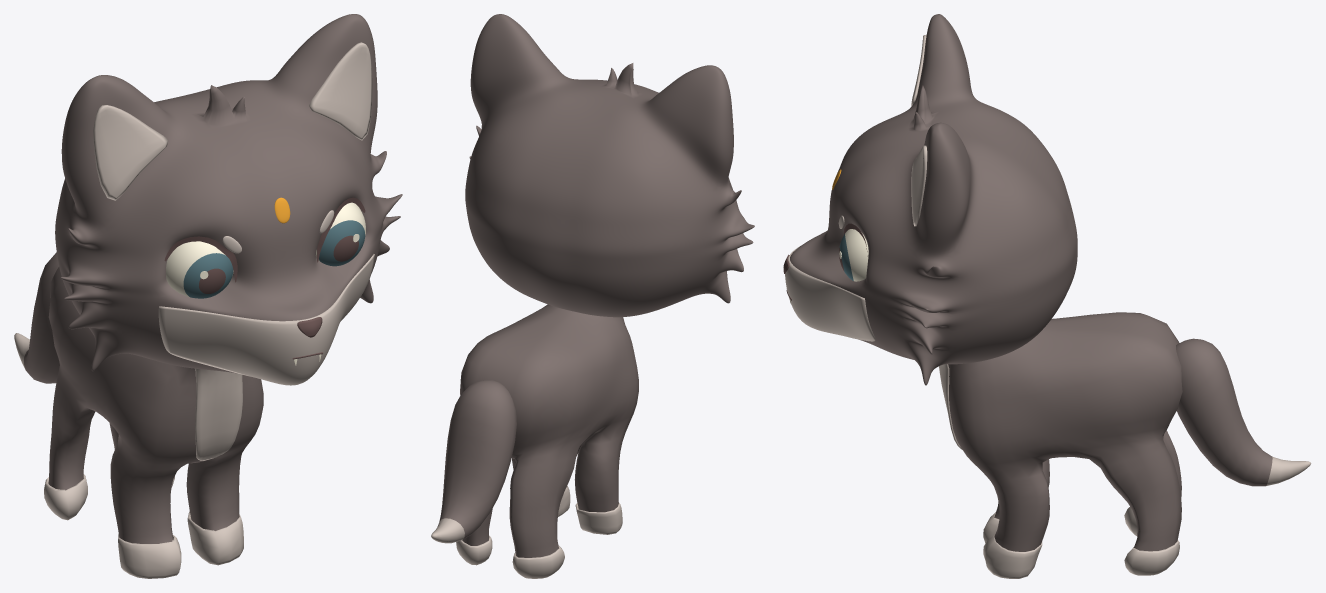
Rendered from Lobo (colores planos).fbx.
The picture shows the model from 3 angles, left to right: view 1: azimuth 30°, elevation 25°; view 2: azimuth 150°, elevation 25°; view 3: azimuth 270°, elevation 25°; orthographic projection. The views are drawn at different scales.
Parts seen in each view (by area): view 1: Lobo colores planos; view 2: Lobo colores planos; view 3: Lobo colores planos.
Boxes of the visible parts, x1=… form: Lobo colores planos: x1=14, y1=14, x2=402, y2=578; Lobo colores planos: x1=431, y1=14, x2=754, y2=578; Lobo colores planos: x1=783, y1=14, x2=1311, y2=578.
Size of the model in its own units: 110 by 168 by 166.
